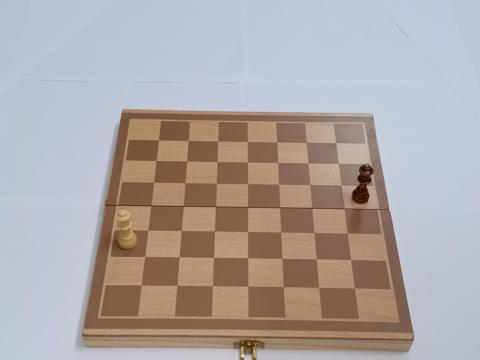xcorner: (143, 227, 153, 237), (243, 228, 253, 238), (146, 203, 156, 212), (140, 254, 150, 263), (137, 281, 146, 291), (182, 158, 191, 168), (180, 180, 190, 189), (212, 159, 222, 168), (212, 180, 221, 190), (211, 203, 220, 213), (243, 138, 252, 148), (244, 254, 253, 264), (244, 282, 253, 292), (272, 139, 282, 148), (273, 159, 283, 168), (274, 181, 284, 190), (279, 283, 289, 292), (304, 159, 313, 169), (308, 204, 317, 214), (312, 255, 322, 264), (331, 139, 341, 148), (337, 181, 346, 191), (343, 229, 353, 238), (347, 255, 356, 265), (351, 283, 360, 293), (154, 138, 163, 147), (152, 158, 161, 167), (149, 180, 158, 189), (184, 138, 193, 147), (179, 203, 188, 212), (177, 228, 186, 237), (175, 254, 184, 263), (173, 282, 182, 291), (213, 138, 222, 147), (210, 228, 219, 237), (209, 254, 218, 263), (208, 282, 217, 291), (243, 159, 252, 168), (243, 181, 252, 190), (243, 204, 252, 213), (276, 204, 285, 213), (277, 229, 286, 238), (278, 255, 287, 264), (302, 139, 311, 148), (306, 181, 315, 190), (310, 229, 319, 238), (315, 283, 324, 292), (334, 160, 343, 169), (340, 205, 349, 214)
